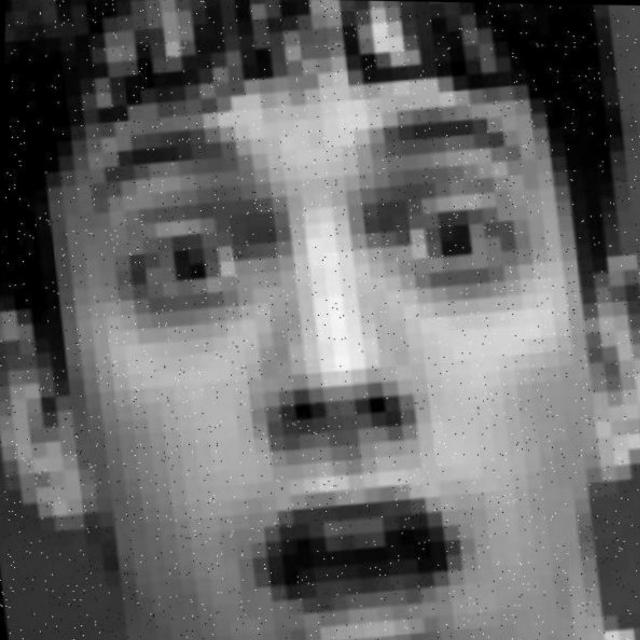Surprised: (33, 77, 640, 640)
